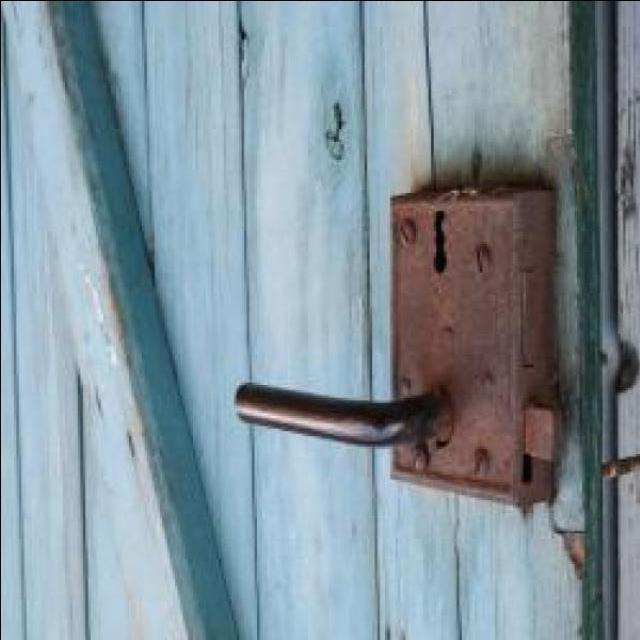corrosion: (348, 169, 571, 503)
